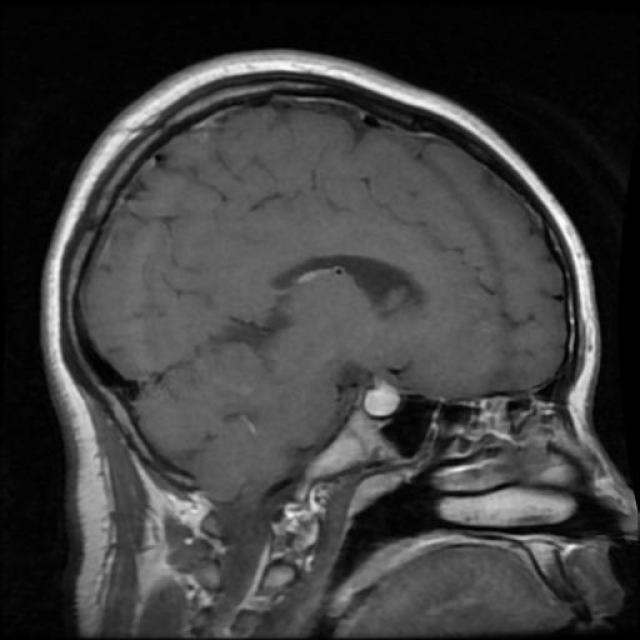pituitary: (348, 352, 442, 459)
